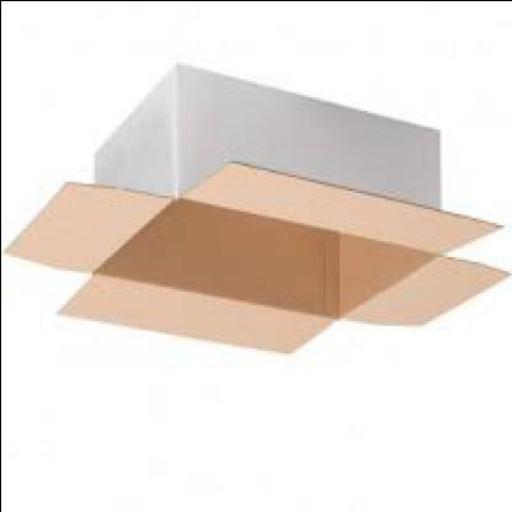cardboard: (2, 64, 501, 354)
